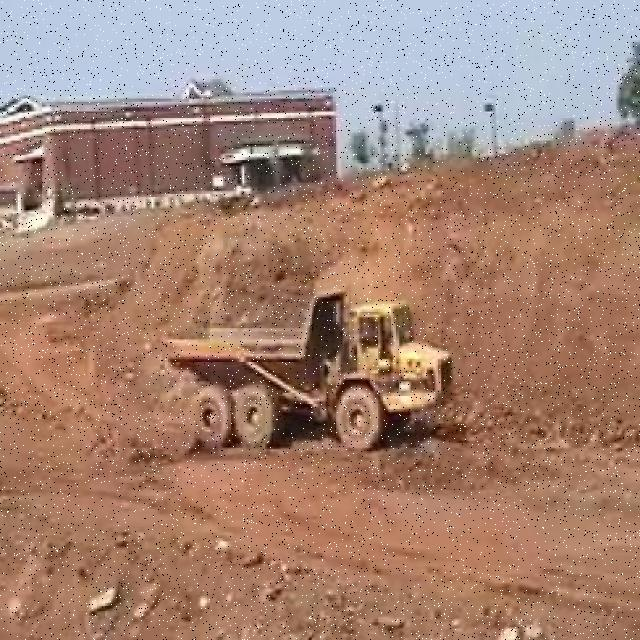Dump Truck: (151, 269, 457, 463)
